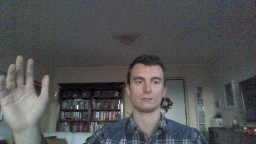Mano_aperta: (0, 50, 53, 132)
